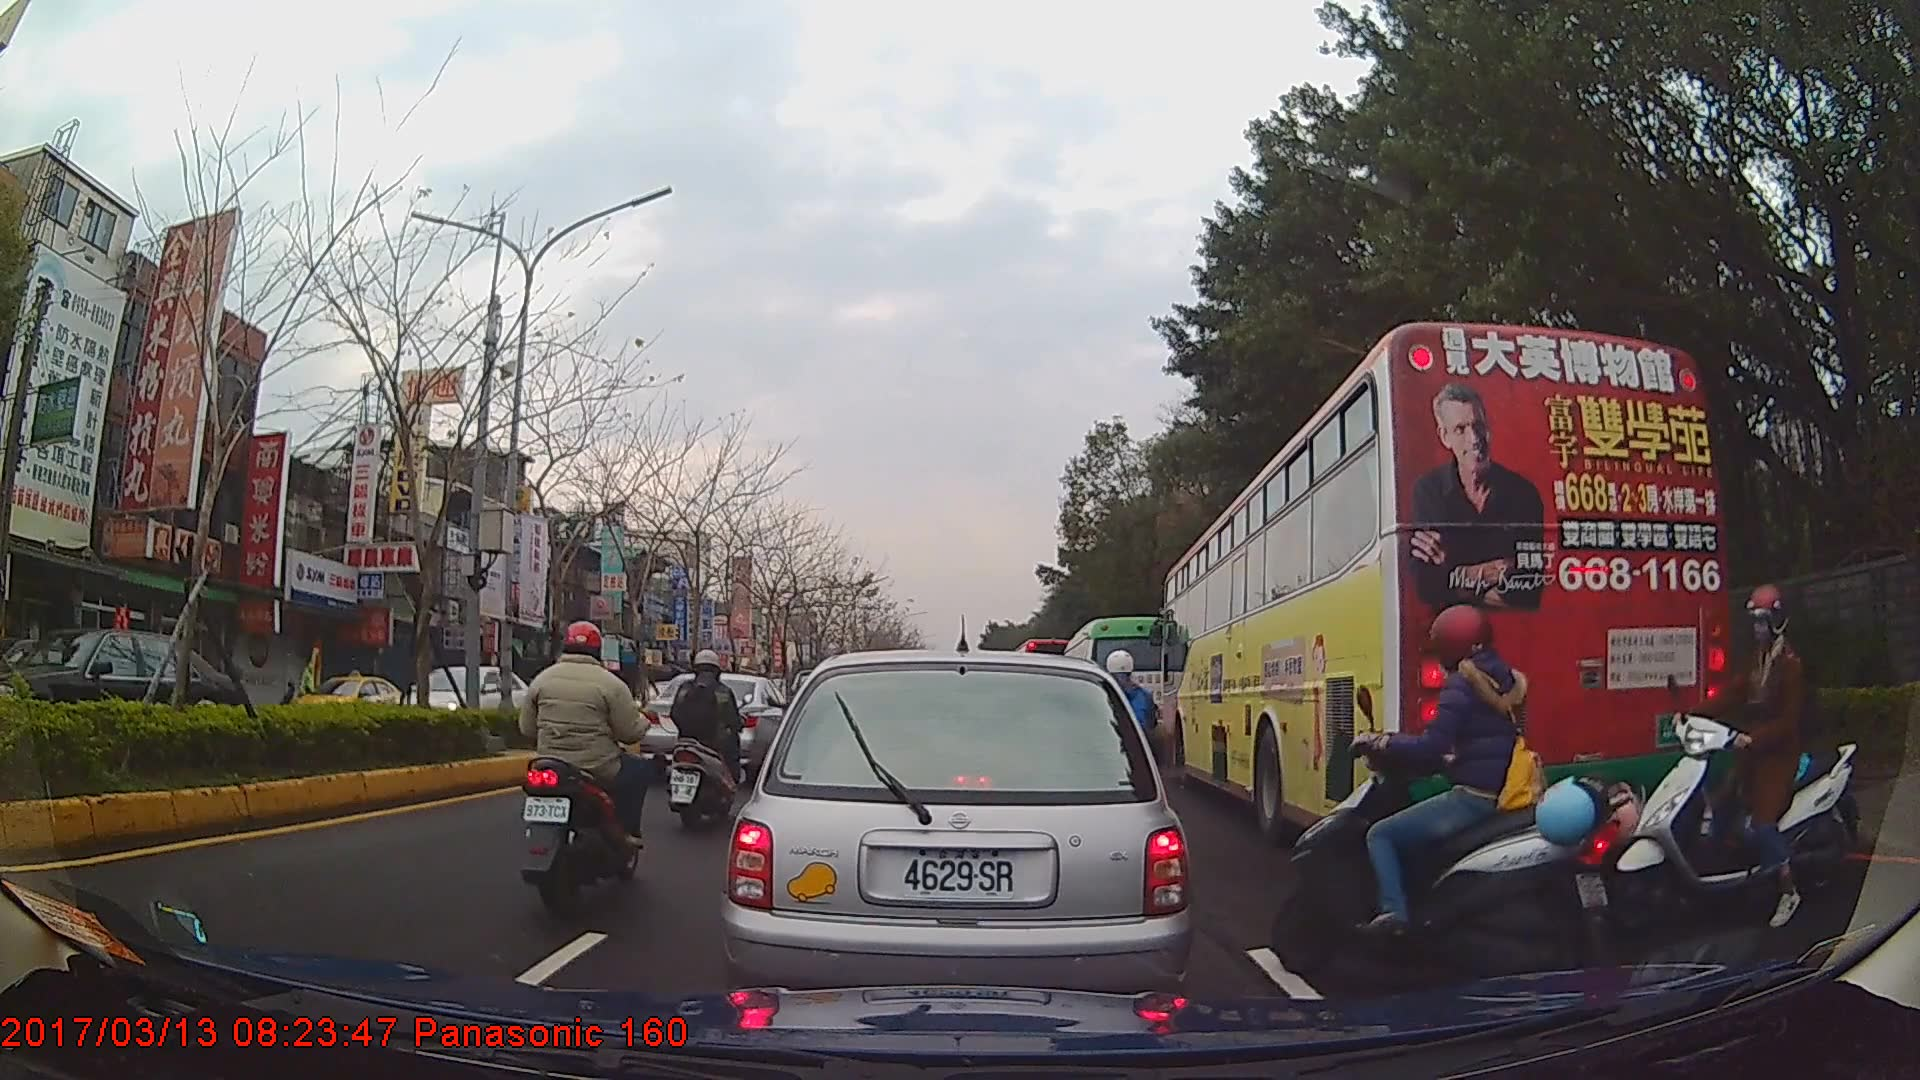rider: (1281, 603, 1637, 999), (1624, 584, 1855, 938), (518, 615, 647, 926), (667, 647, 746, 820)
vehicle: (1160, 319, 1727, 849), (725, 649, 1186, 1017), (5, 626, 238, 758), (1057, 615, 1185, 766), (660, 669, 799, 770), (368, 655, 525, 736), (288, 669, 413, 731)
